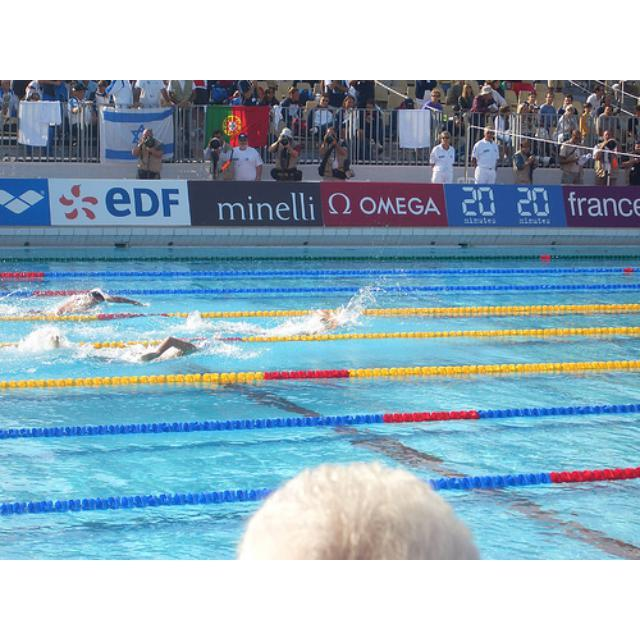human: (52, 289, 145, 313), (138, 335, 202, 364)
